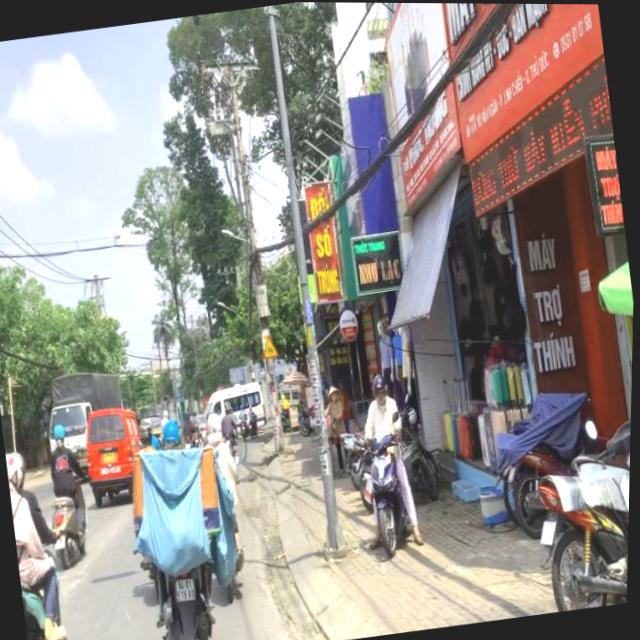Tre em: (261, 331, 281, 362)
